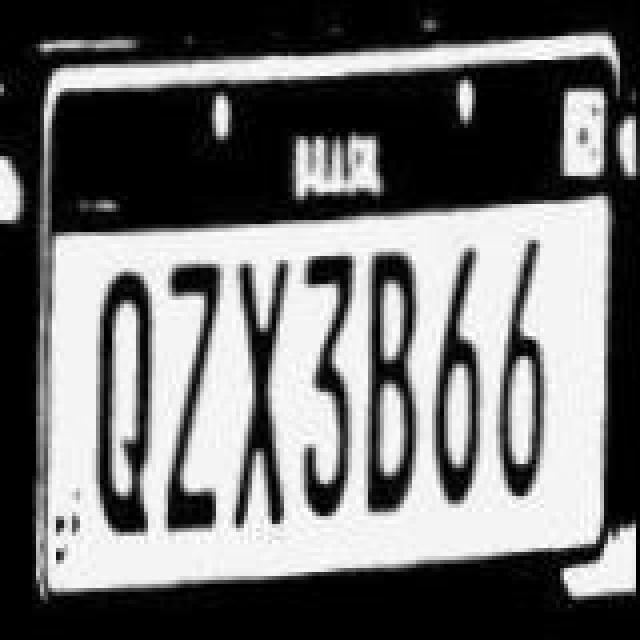3: (298, 250, 358, 526)
6: (426, 244, 482, 508), (494, 234, 550, 498)
B: (360, 244, 420, 512)
Q: (94, 272, 162, 540)
X: (232, 256, 296, 528)
Z: (158, 260, 226, 532)
